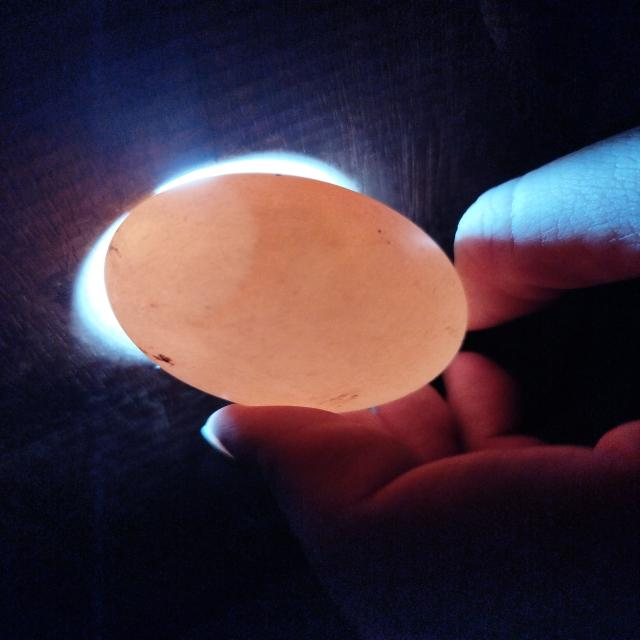Camara de Ar: (103, 179, 257, 304)
